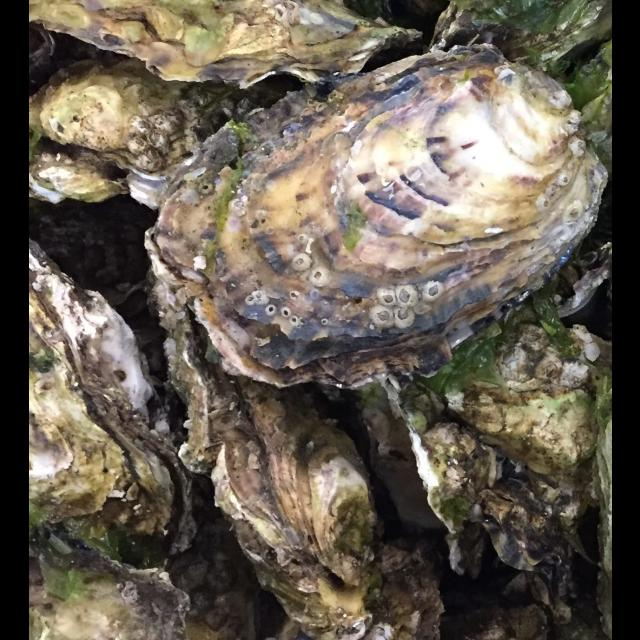Oyster-Closed: (143, 46, 608, 387), (28, 243, 193, 568)
Oyster-Indeterminate: (150, 280, 380, 640), (415, 291, 611, 509), (28, 0, 422, 85), (28, 60, 309, 175), (385, 378, 503, 533), (28, 532, 189, 640), (28, 202, 159, 304), (429, 0, 611, 65), (483, 460, 559, 577), (360, 538, 443, 640), (28, 154, 133, 203), (597, 417, 611, 578)
